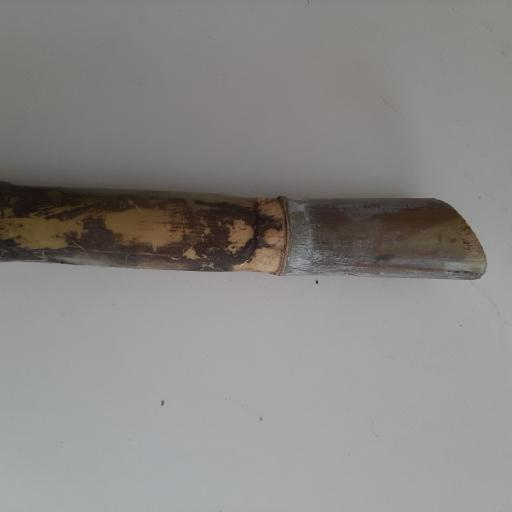Bud: (258, 222, 284, 249)
